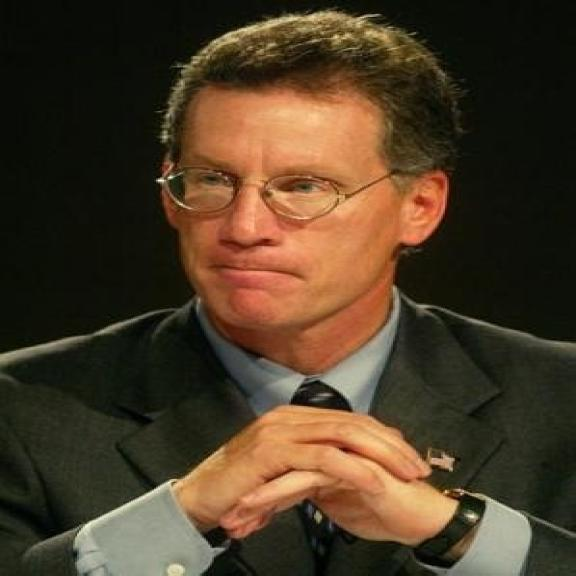face: (154, 14, 458, 333)
